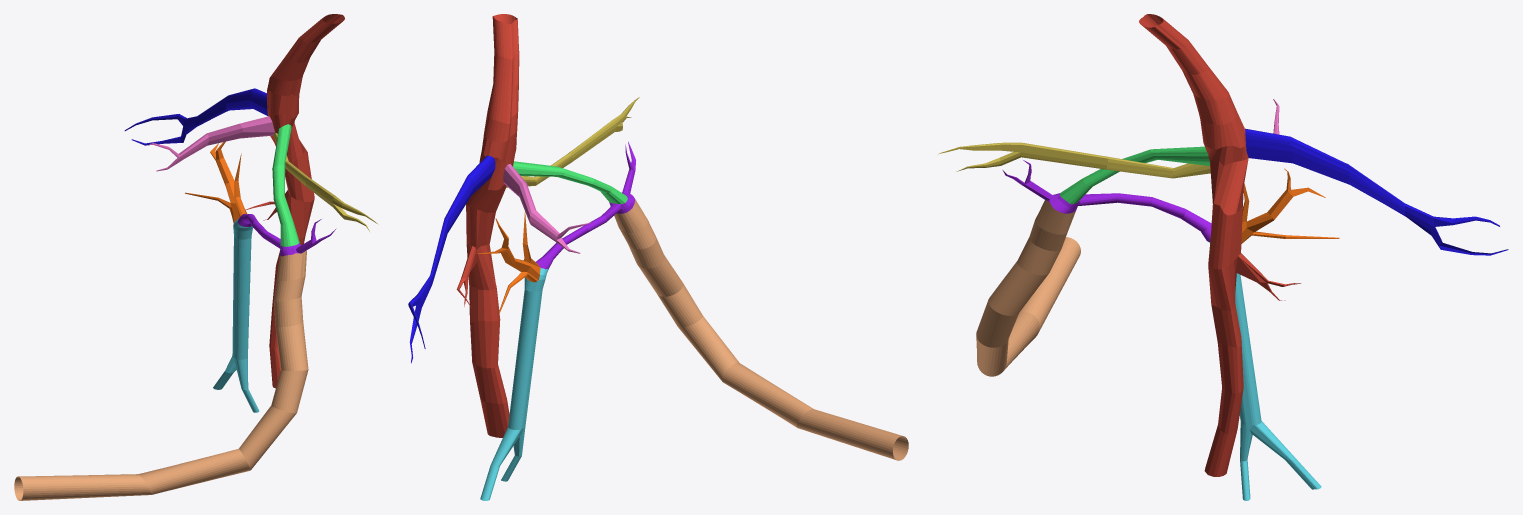
File: veinssingle.glb
3 views of the same model, side by side, from view 1: azimuth 30°, elevation 25°; view 2: azimuth 150°, elevation 25°; view 3: azimuth 270°, elevation 25° (orthographic). The views are drawn at different scales.
Parts seen in each view (by area): view 1: Circle; view 2: Circle; view 3: Circle.
Part boxes in pixels (left/top/right/bottom): Circle: left=14, top=14, right=378, bottom=500; Circle: left=408, top=14, right=908, bottom=500; Circle: left=938, top=14, right=1508, bottom=500.
Bounding box in the file's own units: 43.93 × 47.74 × 49.25.
